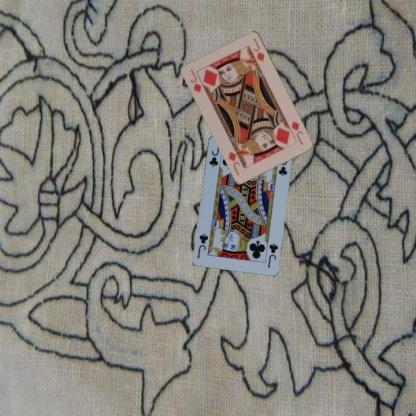Jc: (206, 140, 221, 168), (265, 240, 279, 269)
Jd: (288, 119, 304, 146), (187, 66, 202, 93)
